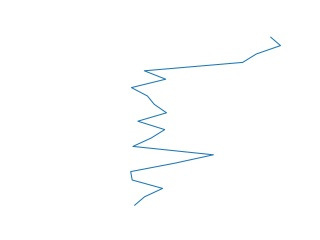crevasseRiverChannelBar: (125, 35, 285, 211)
